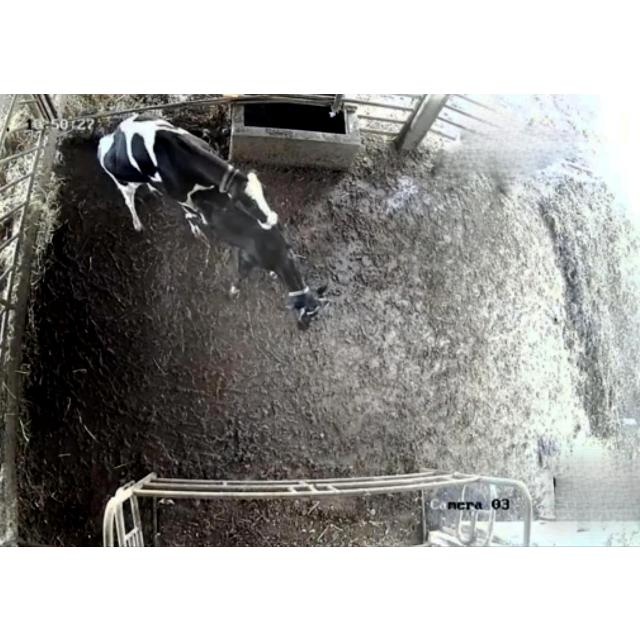ride: (88, 114, 282, 252)
